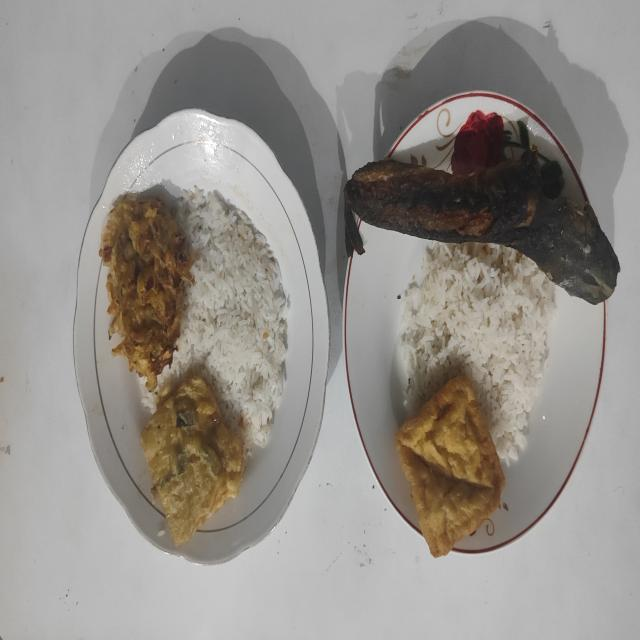nasi_putih: (158, 186, 290, 460), (398, 242, 556, 464)
tahu_goreng: (396, 376, 504, 557)
